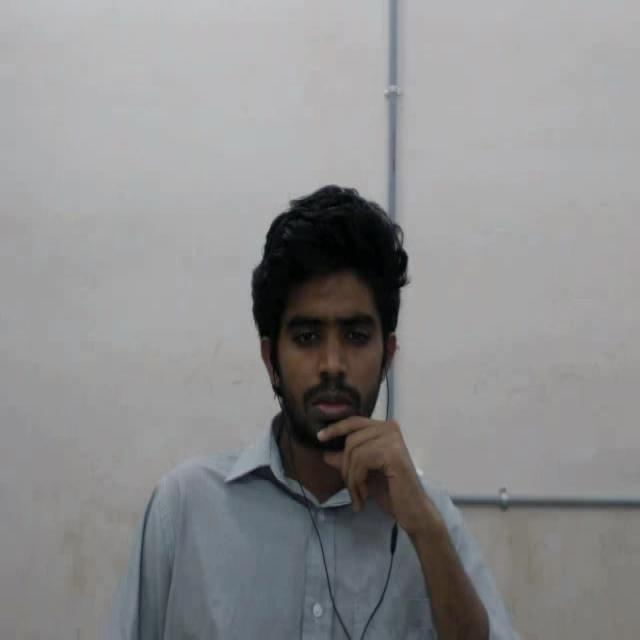Bored: (228, 171, 457, 532)
